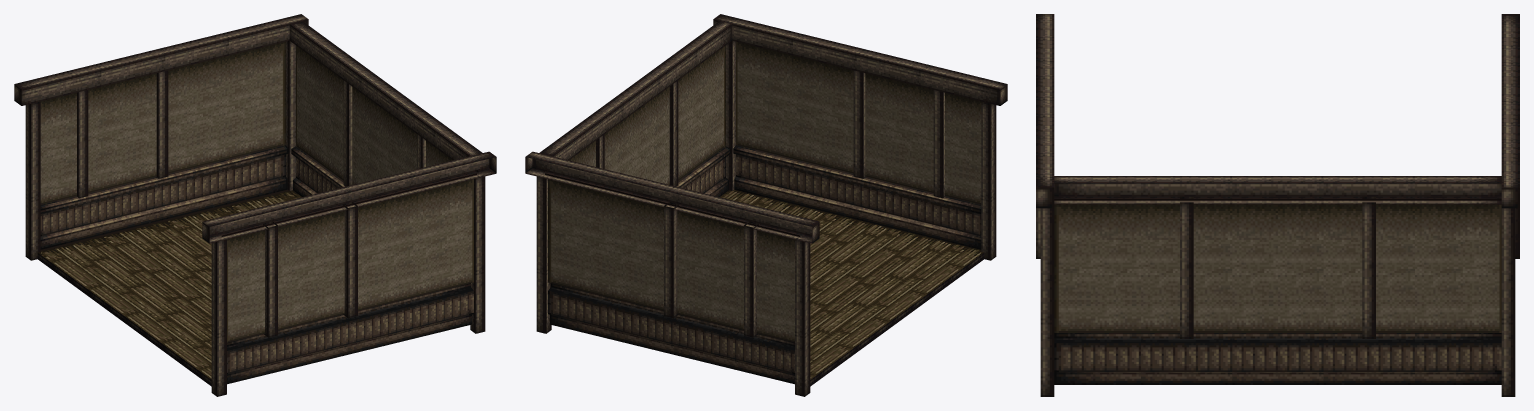
The model's file is EnvBdgMD_WoodHouse_A_Indoor_House_C.FBX.
3 renders of one model, left to right at view 1: azimuth 30°, elevation 25°; view 2: azimuth 150°, elevation 25°; view 3: azimuth 270°, elevation 25°, orthographic. The views are drawn at different scales.
Visible parts, largest first — view 1: EnvBdgMD_WoodHouse_A_Indoor_House_C; view 2: EnvBdgMD_WoodHouse_A_Indoor_House_C; view 3: EnvBdgMD_WoodHouse_A_Indoor_House_C.
Boxes of the visible parts, x1=… form: EnvBdgMD_WoodHouse_A_Indoor_House_C: x1=14, y1=14, x2=496, y2=396; EnvBdgMD_WoodHouse_A_Indoor_House_C: x1=525, y1=14, x2=1007, y2=396; EnvBdgMD_WoodHouse_A_Indoor_House_C: x1=1036, y1=14, x2=1519, y2=396.
Bounding box in the file's own units: 900 × 520 × 1060.
Materials: 1 (1 with a texture image).
